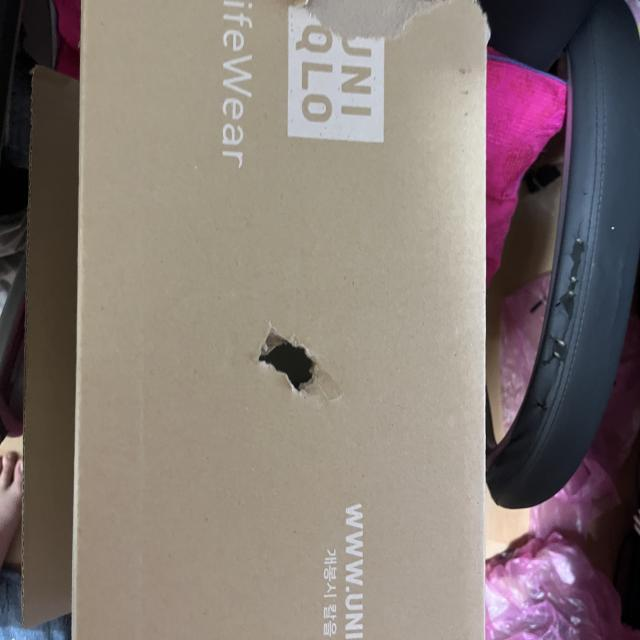hole: (258, 325, 322, 393)
